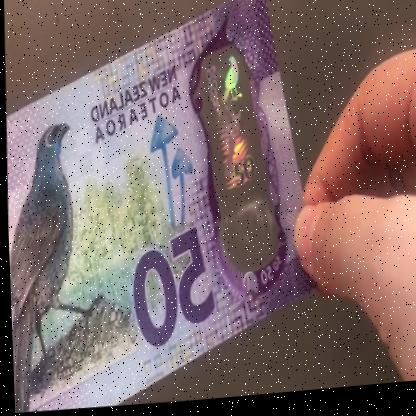50B: (196, 56, 275, 263)
